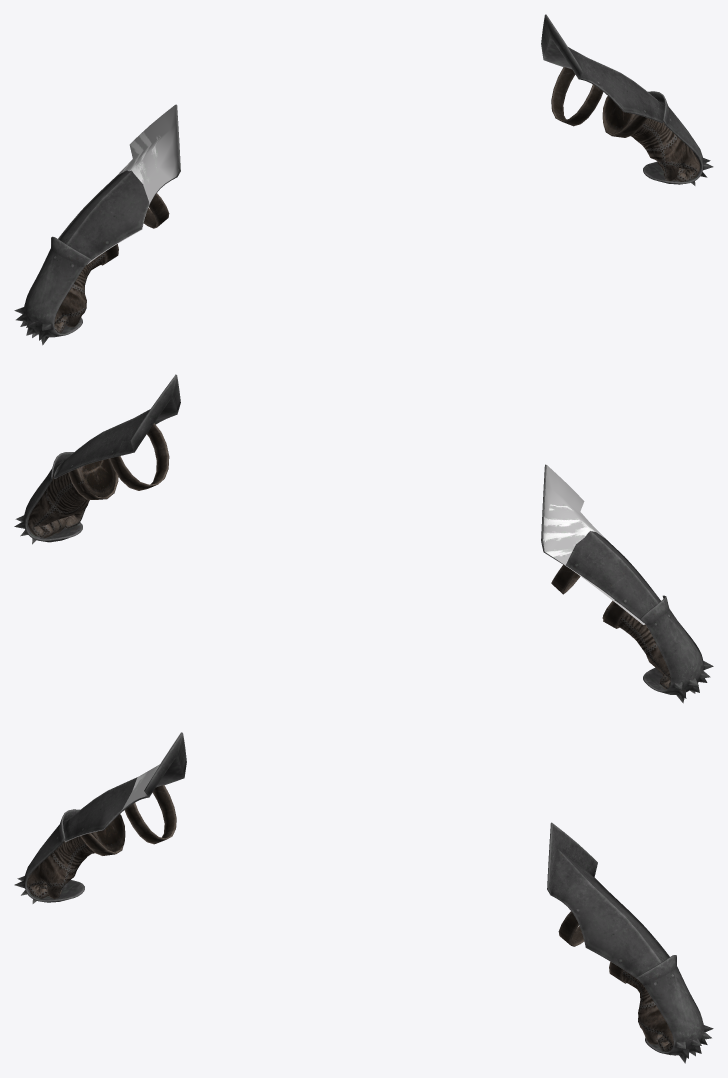
Rendered from sk_uruk_hai_bracer_elite_b3.fbx.
3 views of the same model, one above another, from view 1: azimuth 30°, elevation 25°; view 2: azimuth 150°, elevation 25°; view 3: azimuth 330°, elevation 25° (orthographic).
Parts seen in each view (by area): view 1: sk_uruk_hai_bracer_elite_b3.0, sk_uruk_hai_bracer_elite_b3.1, sk_uruk_hai_bracer_elite_b3.2; view 2: sk_uruk_hai_bracer_elite_b3.0, sk_uruk_hai_bracer_elite_b3.1, sk_uruk_hai_bracer_elite_b3.2; view 3: sk_uruk_hai_bracer_elite_b3.0, sk_uruk_hai_bracer_elite_b3.1, sk_uruk_hai_bracer_elite_b3.2.
Boxes of the visible parts, <box> form: sk_uruk_hai_bracer_elite_b3.0: <box>14,14,713,345</box>; sk_uruk_hai_bracer_elite_b3.1: <box>54,67,700,333</box>; sk_uruk_hai_bracer_elite_b3.2: <box>87,105,178,264</box>; sk_uruk_hai_bracer_elite_b3.0: <box>14,374,713,703</box>; sk_uruk_hai_bracer_elite_b3.1: <box>28,423,670,689</box>; sk_uruk_hai_bracer_elite_b3.2: <box>543,465,645,624</box>; sk_uruk_hai_bracer_elite_b3.0: <box>14,732,713,1063</box>; sk_uruk_hai_bracer_elite_b3.1: <box>27,785,673,1055</box>; sk_uruk_hai_bracer_elite_b3.2: <box>64,732,181,842</box>.
Bounding box in the file's own units: 1.52 × 0.1829 × 0.43.
Materials: 3 (3 with a texture image).
